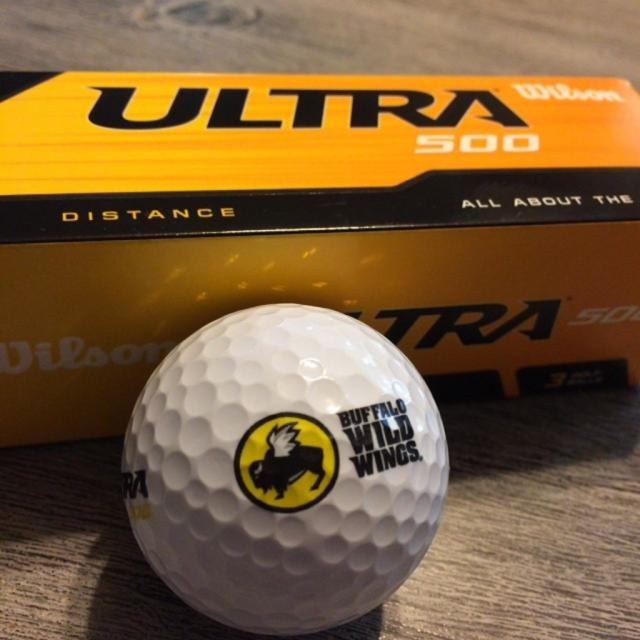Ball: (121, 303, 450, 637)
